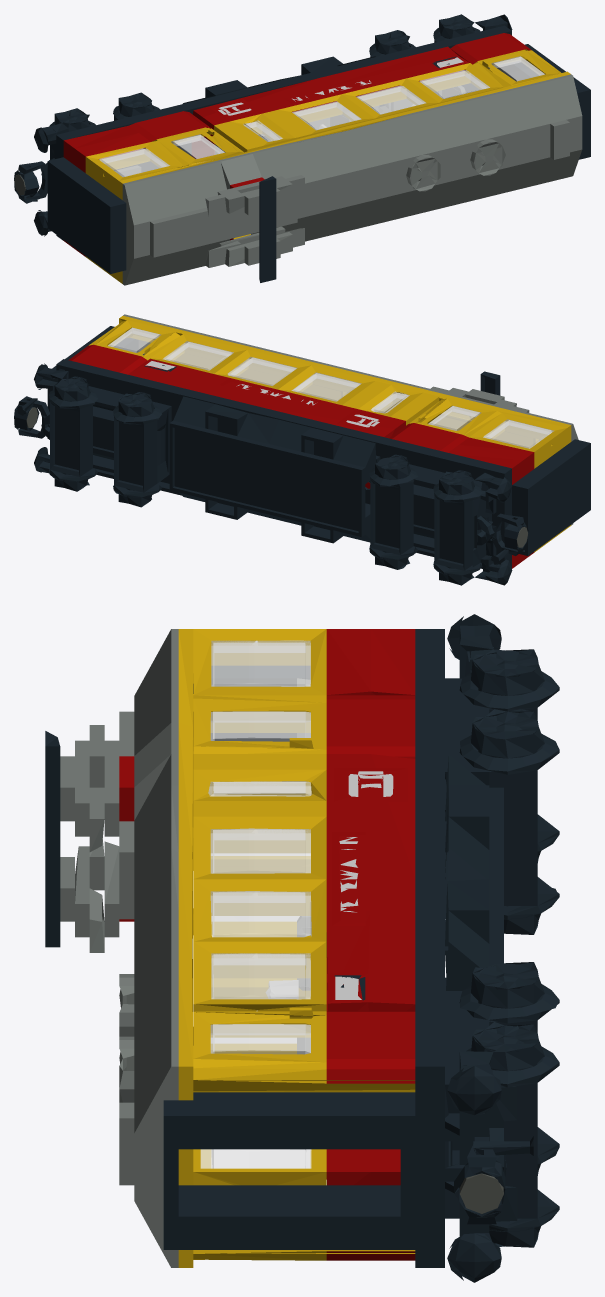
The model's file is coach.glb.
The picture shows the model from 3 angles, top to bottom: view 1: azimuth 30°, elevation 25°; view 2: azimuth 150°, elevation 25°; view 3: azimuth 270°, elevation 25°; orthographic projection. The views are drawn at different scales.
Size of the model in its own units: 251 by 51.8 by 111.
